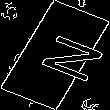N_NW: (16, 26, 94, 84)
